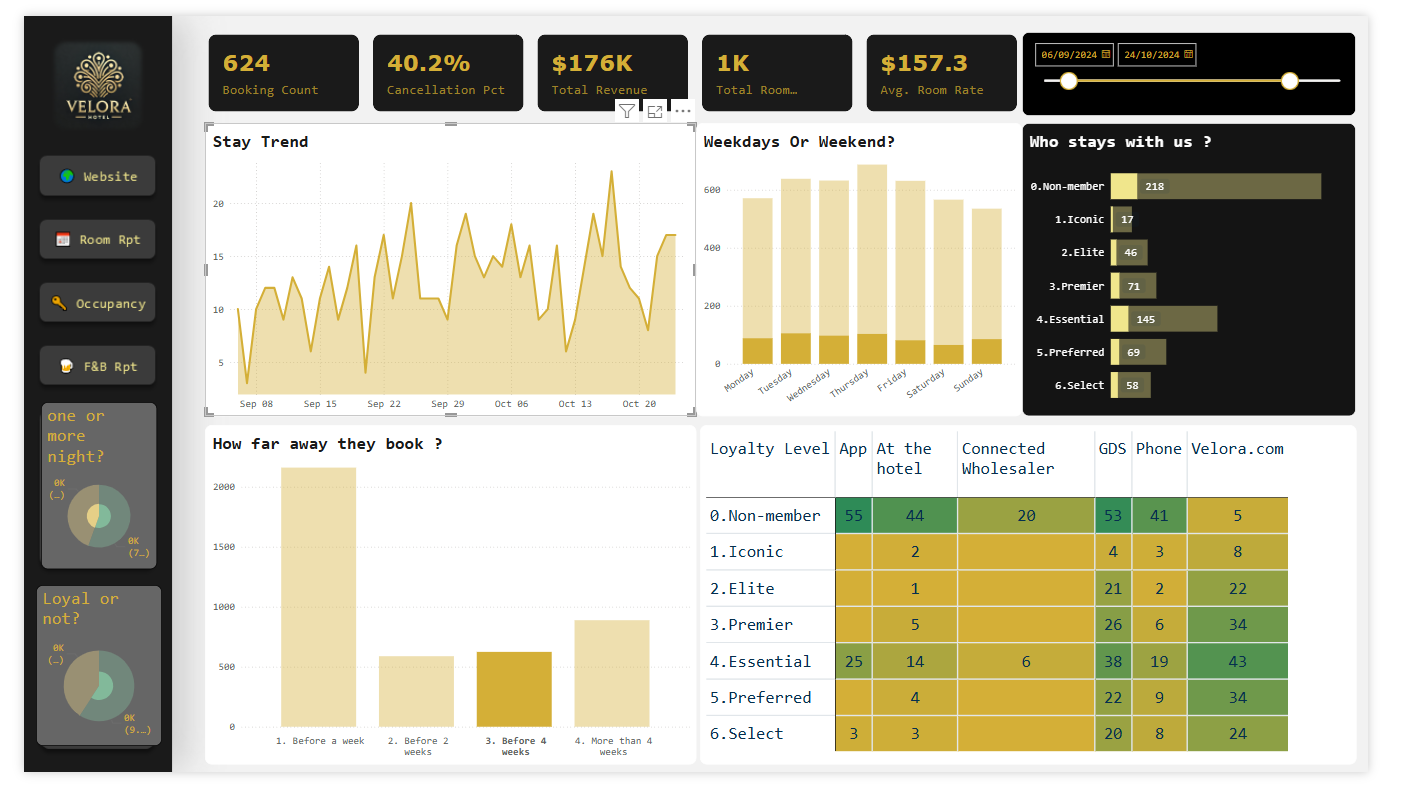

The dashboard page shown, as its layout file describes it:
{"tool":"powerbi","page":{"name":"Bookings Report BLANK","canvas":[1920,1080],"ordinal":0},"visuals":[{"type":"cardVisual","fields":{"Data":["bookings.Booking Count","bookings.Cancellation Pct","bookings.Total Revenue","bookings.Total Room Nights","bookings.Avg. Room Rate"]},"box":[258,22,1168,120],"z":0},{"type":"lineChart","title":"Stay Trend","fields":{"Category":["bookings.Stay Date"],"Y":["bookings.Booking Count"]},"box":[258,153,702.3,419],"z":1000},{"type":"slicer","fields":{"Values":["bookings.Stay Date"]},"box":[1425.8,22.6,477.5,119.7],"z":2000},{"type":"clusteredColumnChart","title":"Weekdays Or Weekend?","fields":{"Category":["bookings.Day Name"],"Y":["CountNonNull(bookings.Booking Date)"]},"box":[960.3,153,465.5,419],"z":3000},{"type":"clusteredBarChart","title":"Who stays with us ?","fields":{"Category":["bookings.Loyalty Level"],"Y":["bookings.Booking Count"]},"box":[1425.8,153,477.5,419],"z":4000},{"type":"clusteredColumnChart","title":"How far away they book ?","fields":{"Category":["bookings.How far away bucket"],"Y":["bookings.Booking Count"]},"box":[258,583.9,702.3,485.5],"z":5000},{"type":"pivotTable","fields":{"Rows":["bookings.Loyalty Level"],"Columns":["bookings.Booking Channel"],"Values":["bookings.Booking Count"]},"box":[965.6,583.9,937.7,485.5],"z":6000},{"type":"pieChart","title":"one or more night?","fields":{"Y":["bookings.Multi-night booking count","bookings.Single night booking count"]},"box":[23.9,552,166.3,239.4],"z":7000},{"type":"pieChart","title":"Loyal or not?","fields":{"Y":["bookings.Loyal Customer Booking Count","bookings.Not Loyal Customer Booking Count"]},"box":[17.3,816.7,179.6,230.1],"z":8000}]}

Visuals, with their boxes in screenshot pixels (x1, y1, x2, y2):
cardVisual - bookings.Booking Count x bookings.Cancellation Pct: [x1=209, y1=26, x2=1021, y2=110]
"Stay Trend" lineChart: [x1=209, y1=117, x2=697, y2=409]
slicer - bookings.Stay Date: [x1=1021, y1=27, x2=1353, y2=110]
"Weekdays Or Weekend?" clusteredColumnChart: [x1=697, y1=117, x2=1021, y2=409]
"Who stays with us ?" clusteredBarChart: [x1=1021, y1=117, x2=1353, y2=409]
"How far away they book ?" clusteredColumnChart: [x1=209, y1=417, x2=697, y2=755]
pivotTable - bookings.Loyalty Level x bookings.Booking Channel: [x1=701, y1=417, x2=1353, y2=755]
"one or more night?" pieChart: [x1=46, y1=395, x2=162, y2=561]
"Loyal or not?" pieChart: [x1=41, y1=579, x2=166, y2=739]
